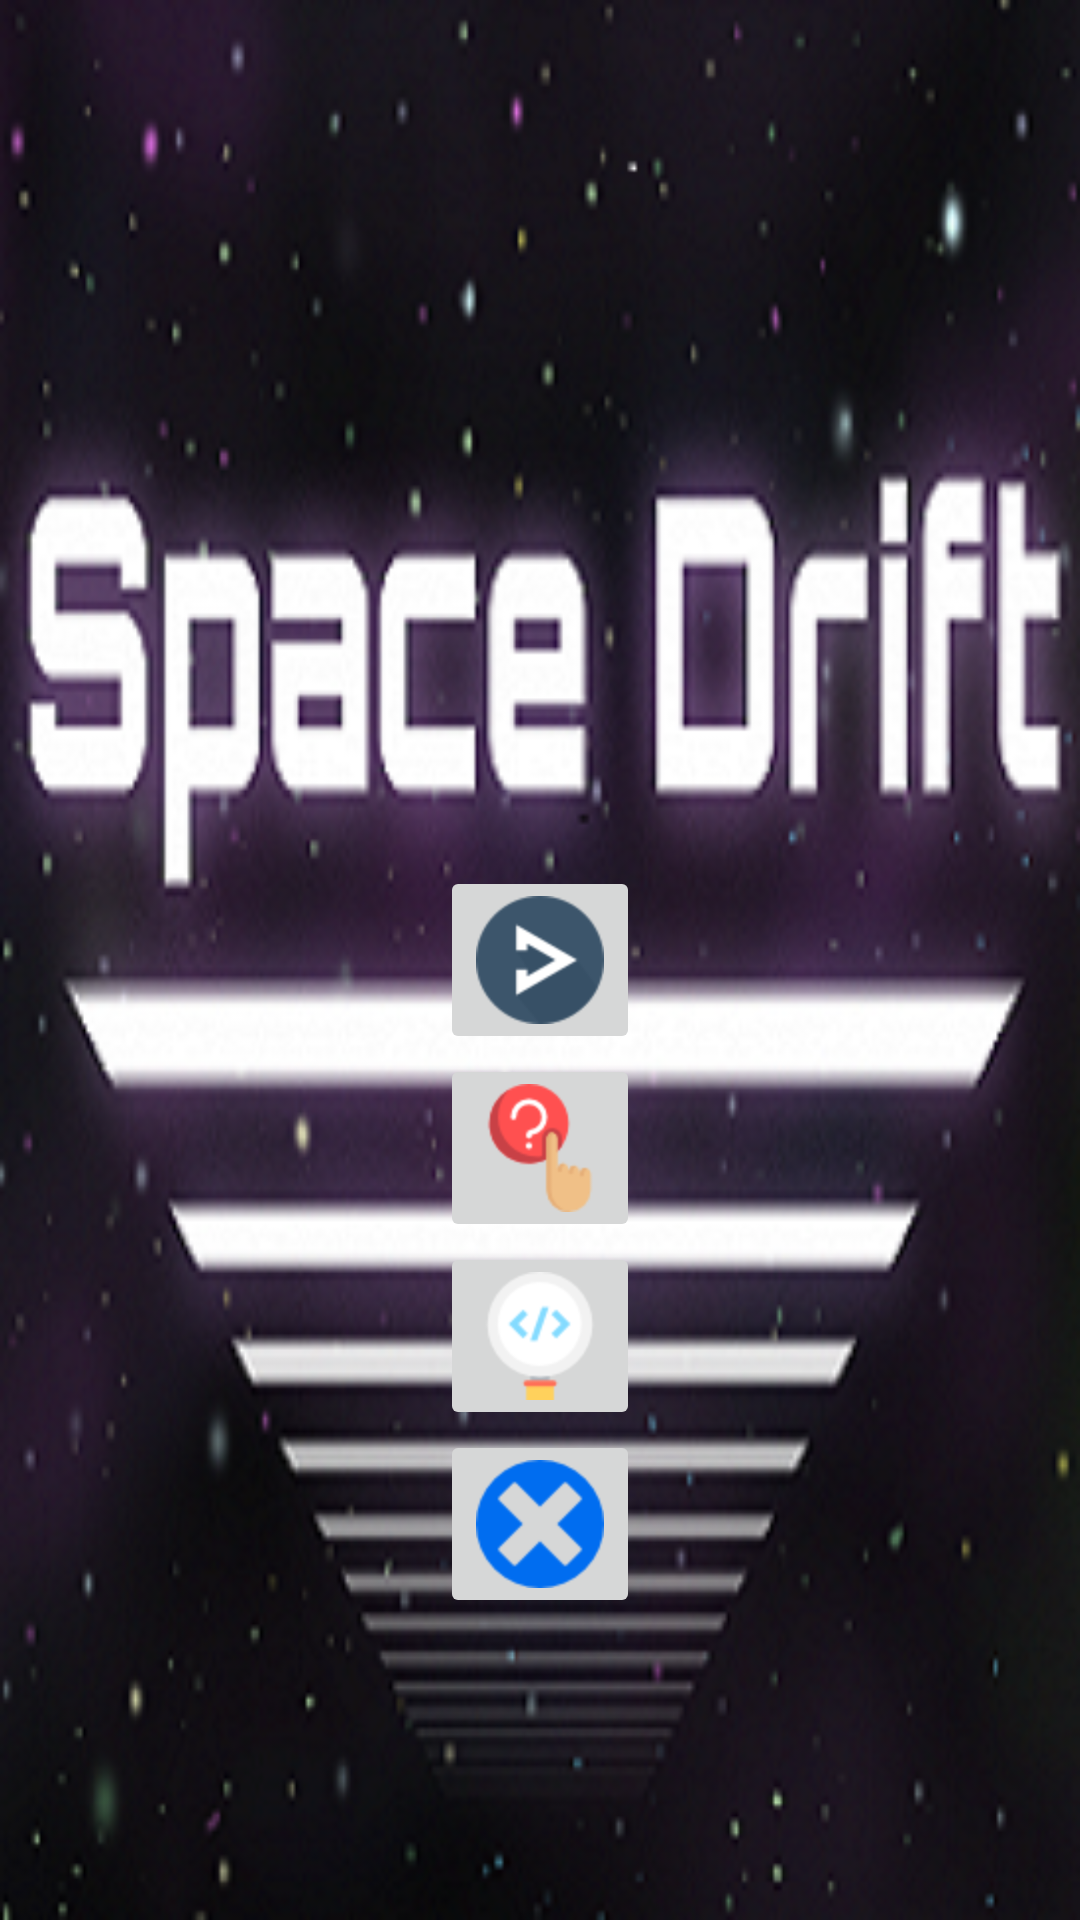

Where to tap for icons on this 1080x1920 app screen, as (x=x, y=y):
cross: (x=540, y=1524)
play: (x=540, y=960)
question: (x=540, y=1147)
